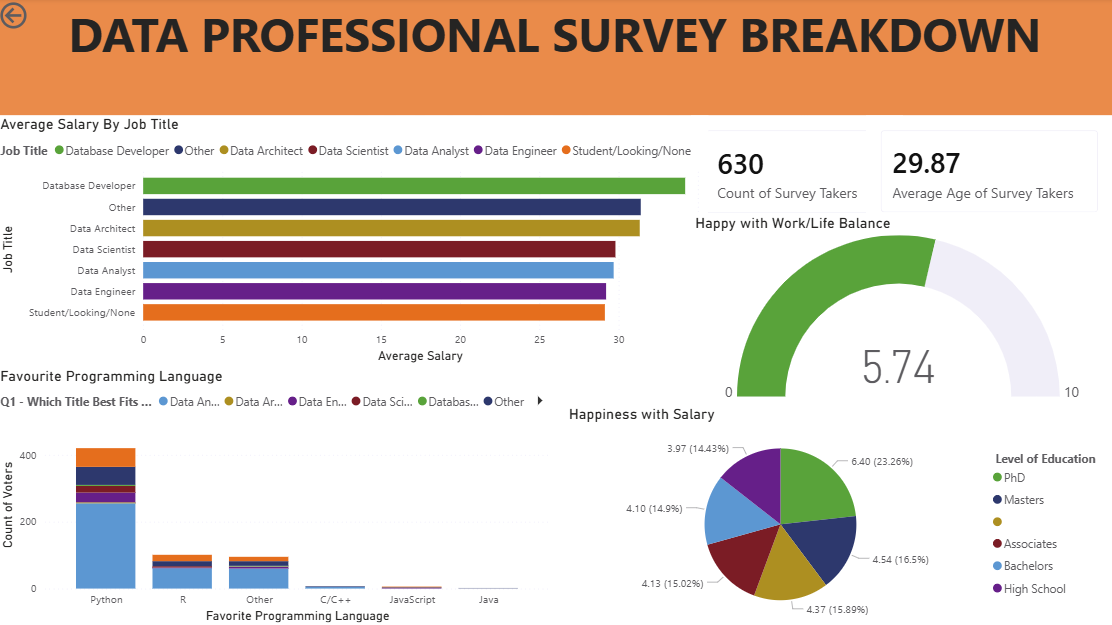

The dashboard page shown, as its layout file describes it:
{"tool":"powerbi","page":{"name":"Page 1","canvas":[1280,720],"ordinal":0},"visuals":[{"type":"textbox","box":[0,0,1280.3,134.6],"z":0},{"type":"actionButton","box":[0,0,100,40],"z":2},{"type":"cardVisual","title":"COUNT OF SURVEY TAKERS","fields":{"Data":["Count(Data Professional Survey.Unique ID)"]},"box":[796.1,134.5,242.1,129.1],"z":3},{"type":"cardVisual","fields":{"Data":["Avg(Data Professional Survey.Q10 - Current Age)"]},"box":[996.7,134.6,283.6,128.9],"z":4},{"type":"barChart","title":"Average Salary By Job Title","fields":{"Category":["Data Professional Survey.Q1 - Which Title Best Fits your Current Role?.1"],"Y":["Avg(Data Professional Survey.Q10 - Current Age)"],"Series":["Data Professional Survey.Q1 - Which Title Best Fits your Current Role?.1"]},"box":[0,134.6,816.3,287.9],"z":5},{"type":"columnChart","title":"Favourite Programming Language","fields":{"Category":["Data Professional Survey.Q5 - Favorite Programming Language.1"],"Y":["CountNonNull(Data Professional Survey.Unique ID)"],"Series":["Data Professional Survey.Q1 - Which Title Best Fits your Current Role?.1"]},"box":[0,422.5,640.1,297.9],"z":6},{"type":"gauge","title":"Happy with Work/Life Balance","fields":{"Y":["Avg(Data Professional Survey.Q6 - How Happy are you in your Current Position with the following? (Work/Life Balance))"],"MinValue":["Min(Data Professional Survey.Q6 - How Happy are you in your Current Position with the following? (Work/Life Balance))1"],"MaxValue":["Max(Data Professional Survey.Q6 - How Happy are you in your Current Position with the following? (Work/Life Balance))2"]},"box":[796.2,247.8,484,219.1],"z":7},{"type":"pieChart","title":"Happiness with Salary","fields":{"Y":["Avg(Data Professional Survey.Q6 - How Happy are you in your Current Position with the following? (Salary))"],"Category":["Data Professional Survey.Q12 - Highest Level of Education"]},"box":[651.6,466.9,628.7,253.5],"z":8}]}

Visuals, with their boxes in screenshot pixels (x1, y1, x2, y2), scaled from the page's 1280x720 canvas onto the 1112x625 screenshot:
textbox: detection(0, 0, 1111, 117)
actionButton: detection(0, 0, 87, 35)
"COUNT OF SURVEY TAKERS" cardVisual: detection(692, 117, 902, 229)
cardVisual - Avg(Data Professional Survey.Q10 - Current Age): detection(866, 117, 1111, 229)
"Average Salary By Job Title" barChart: detection(0, 117, 709, 367)
"Favourite Programming Language" columnChart: detection(0, 367, 556, 624)
"Happy with Work/Life Balance" gauge: detection(692, 215, 1111, 405)
"Happiness with Salary" pieChart: detection(566, 405, 1111, 624)
